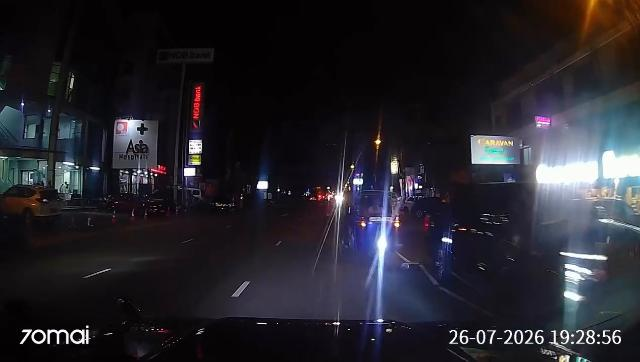illegal overtaking: (343, 188, 407, 268)
